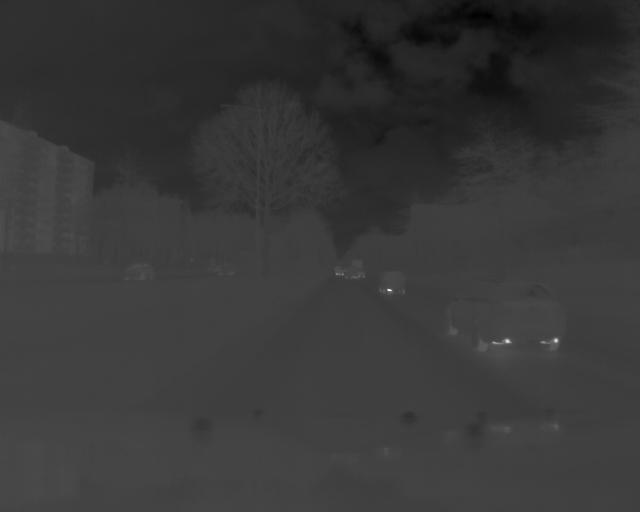car: (443, 278, 572, 357), (377, 268, 412, 296), (121, 259, 158, 282), (343, 265, 365, 281)
